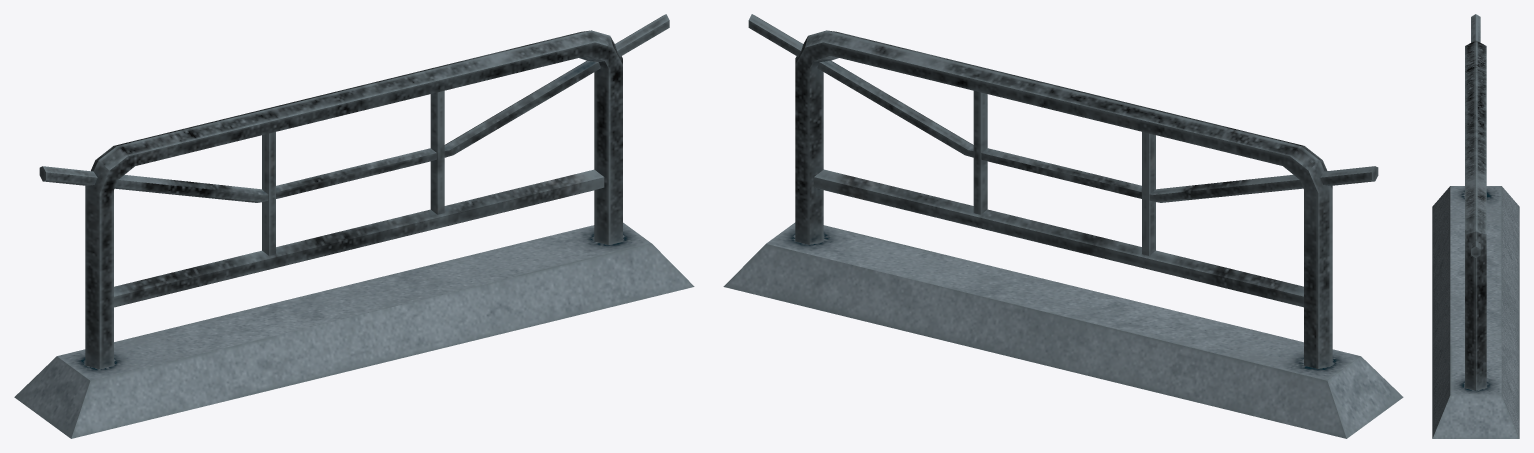
Rendered from SM_fence_01.fbx.
The picture shows the model from 3 angles, left to right: view 1: azimuth 30°, elevation 25°; view 2: azimuth 150°, elevation 25°; view 3: azimuth 270°, elevation 25°; orthographic projection. The views are drawn at different scales.
Parts seen in each view (by area): view 1: SM_fence_01; view 2: SM_fence_01; view 3: SM_fence_01.
Part boxes in pixels (bbox=[...]): SM_fence_01: bbox=[14, 14, 694, 438]; SM_fence_01: bbox=[723, 14, 1403, 438]; SM_fence_01: bbox=[1432, 14, 1519, 438].
Size of the model in its own units: 500 by 195 by 79.12.
